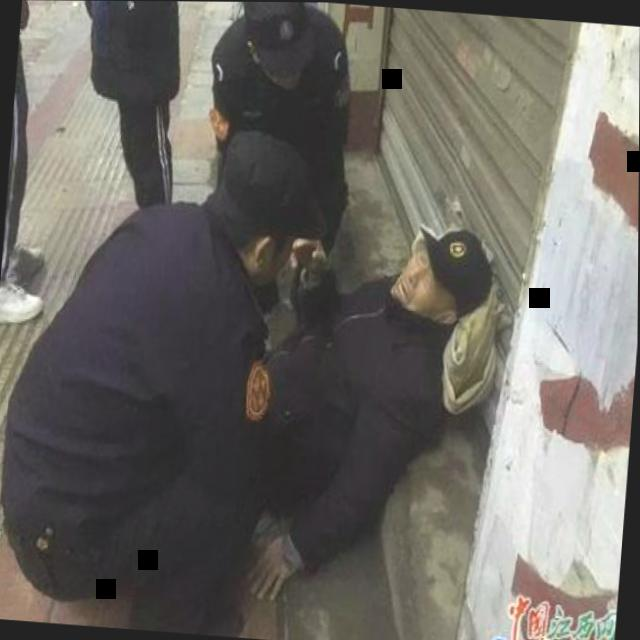Fall-Detected: (220, 184, 516, 623)
